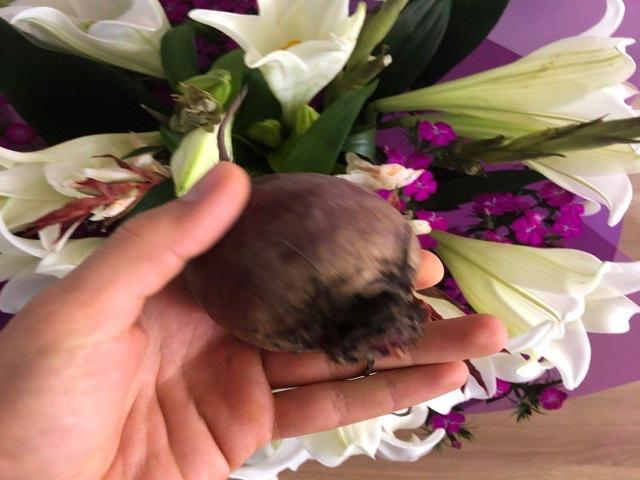beet: (188, 85, 425, 356)
